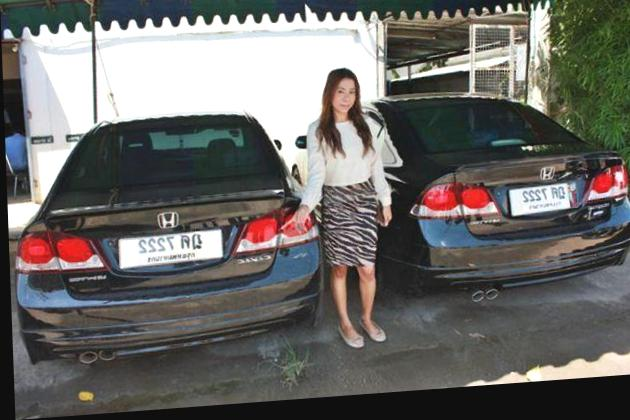License_Plate: (115, 226, 225, 272), (502, 181, 581, 221)
